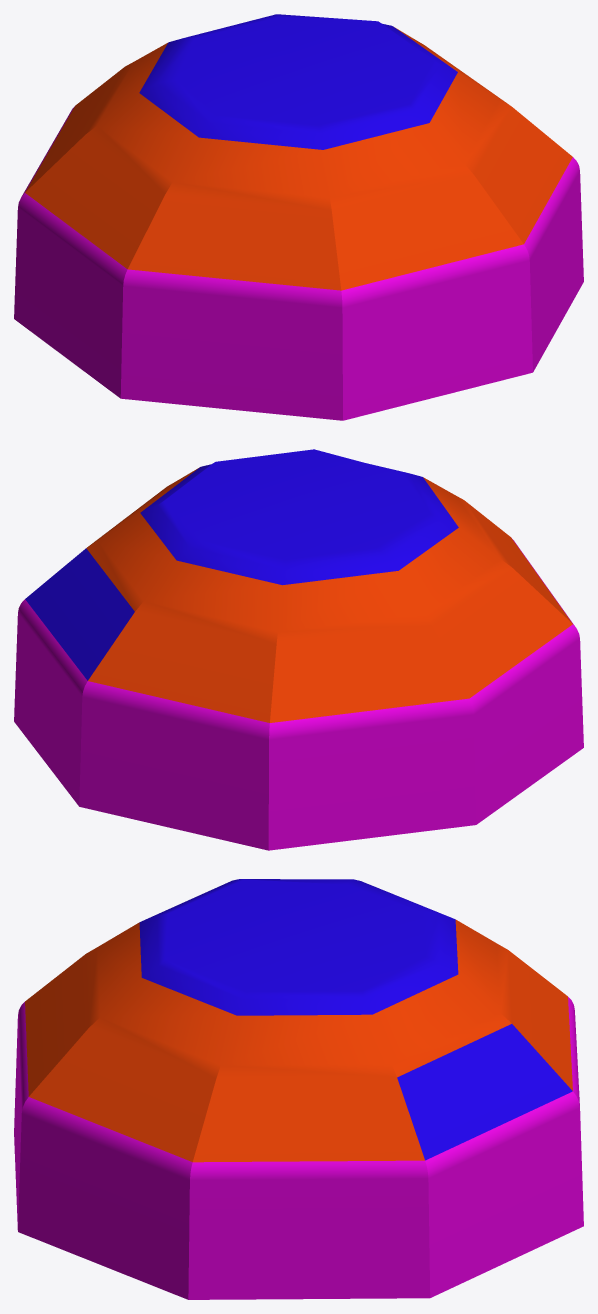
File: Hexagonal_Room2.fbx
3 renders of one model, top to bottom at view 1: azimuth 30°, elevation 25°; view 2: azimuth 150°, elevation 25°; view 3: azimuth 270°, elevation 25°, orthographic. The views are drawn at different scales.
Parts seen in each view (by area): view 1: pCube27; view 2: pCube27; view 3: pCube27.
Boxes of the visible parts, x1,y1,x2,y2 form: pCube27: [14, 14, 583, 420]; pCube27: [14, 449, 583, 850]; pCube27: [14, 879, 583, 1299].
Size of the model in its own units: 310 by 147 by 309.
